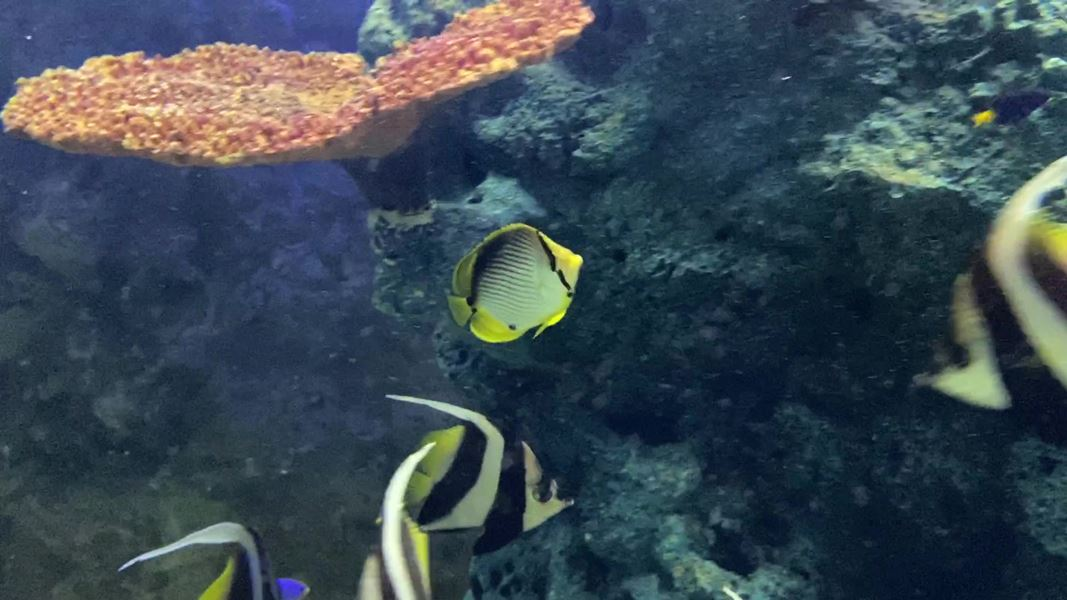Black-backed butterflyfish: (433, 216, 595, 356)
